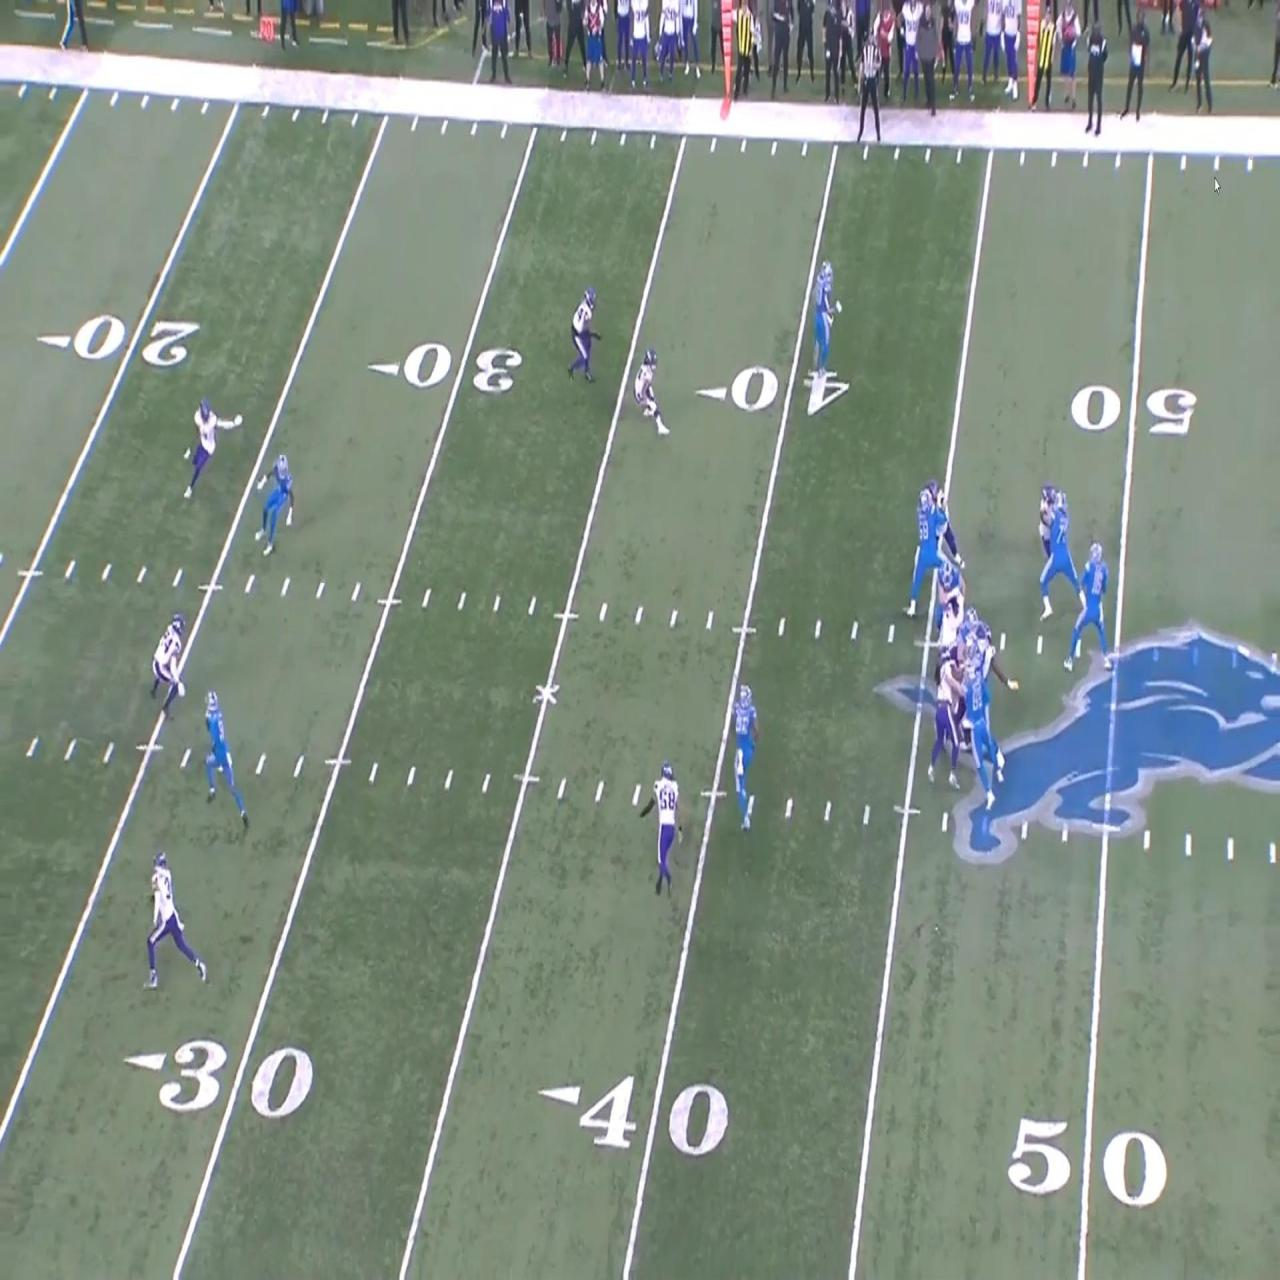20L: (33, 312, 200, 372)
30L: (123, 1037, 314, 1121), (362, 341, 523, 400)
40L: (537, 1071, 729, 1159), (697, 366, 850, 421)
50: (1007, 1111, 1167, 1210), (1069, 383, 1198, 442)
